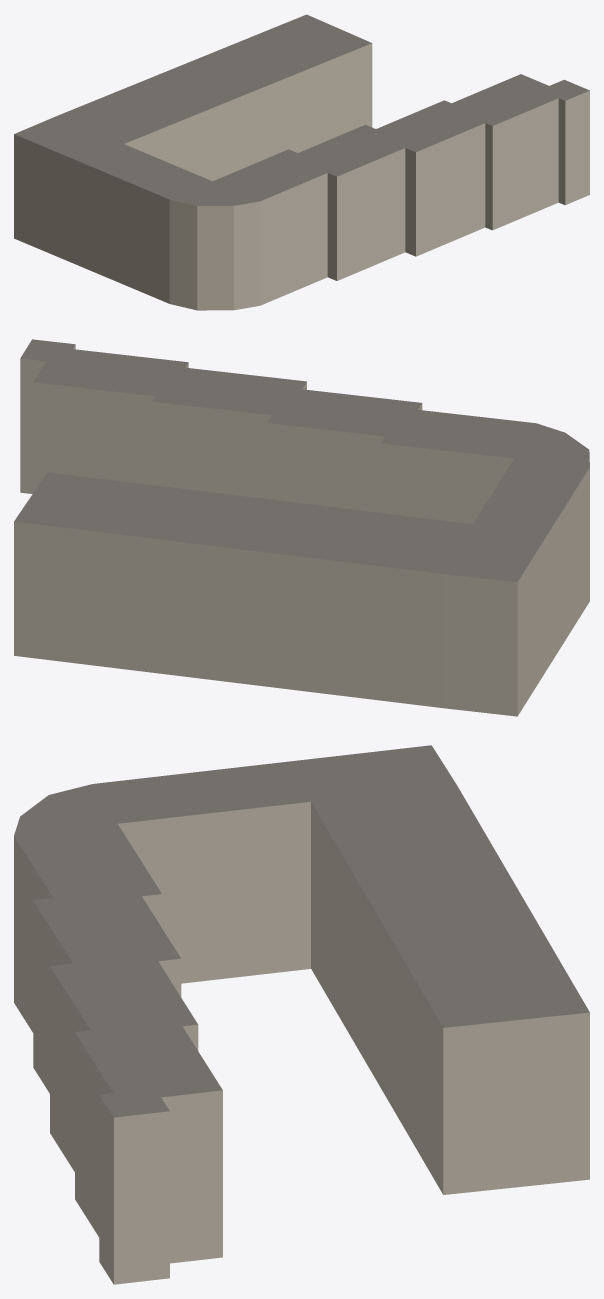
The picture shows the model from 3 angles, top to bottom: view 1: azimuth 30°, elevation 25°; view 2: azimuth 150°, elevation 25°; view 3: azimuth 270°, elevation 25°; orthographic projection. The views are drawn at different scales.
Visible parts, largest first — view 1: HP-w859457392; view 2: HP-w859457392; view 3: HP-w859457392.
Boxes of the visible parts, left/top/right/bottom form: HP-w859457392: left=14, top=14, right=589, bottom=310; HP-w859457392: left=14, top=339, right=589, bottom=716; HP-w859457392: left=14, top=745, right=589, bottom=1284.
Bounding box in the file's own units: 86.01 × 18 × 56.22.
